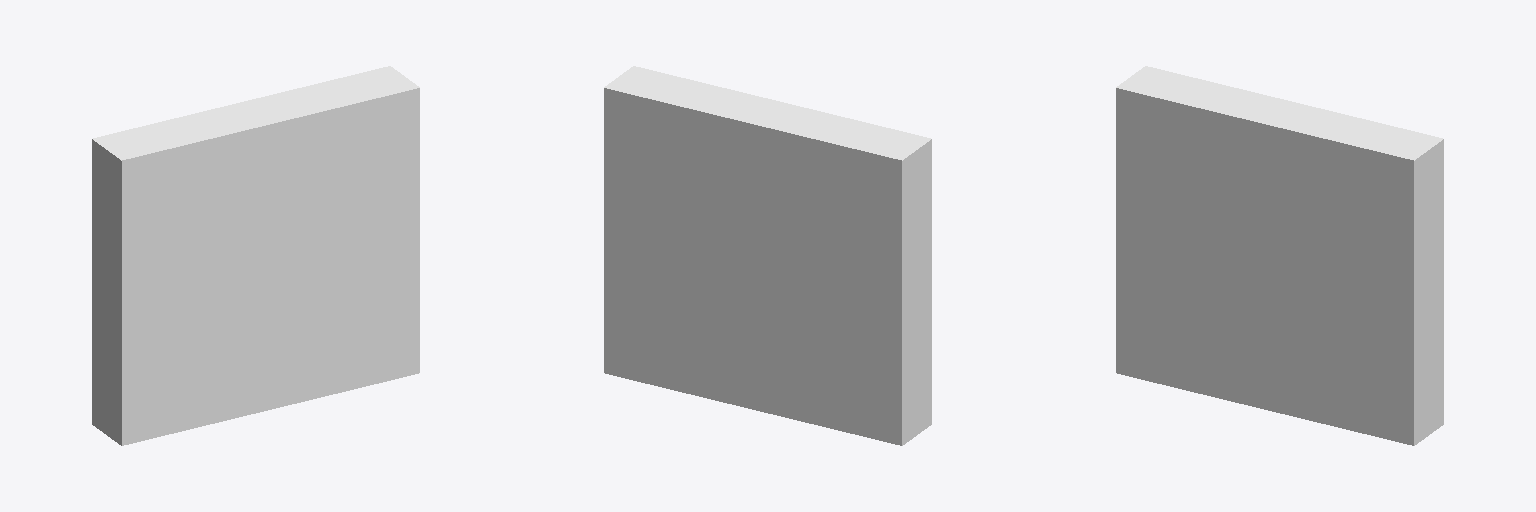
Rendered from MiniGame.obj.
The picture shows the model from 3 angles: view 1: azimuth 30°, elevation 25°; view 2: azimuth 150°, elevation 25°; view 3: azimuth 330°, elevation 25°; orthographic projection.
Parts seen in each view (by area): view 1: object 1; view 2: object 1; view 3: object 1.
Boxes of the visible parts, x1=… form: object 1: x1=92, y1=66, x2=419, y2=445; object 1: x1=604, y1=66, x2=931, y2=445; object 1: x1=1116, y1=66, x2=1443, y2=445.
Size of the model in its own units: 2.3 by 2.1 by 0.4.